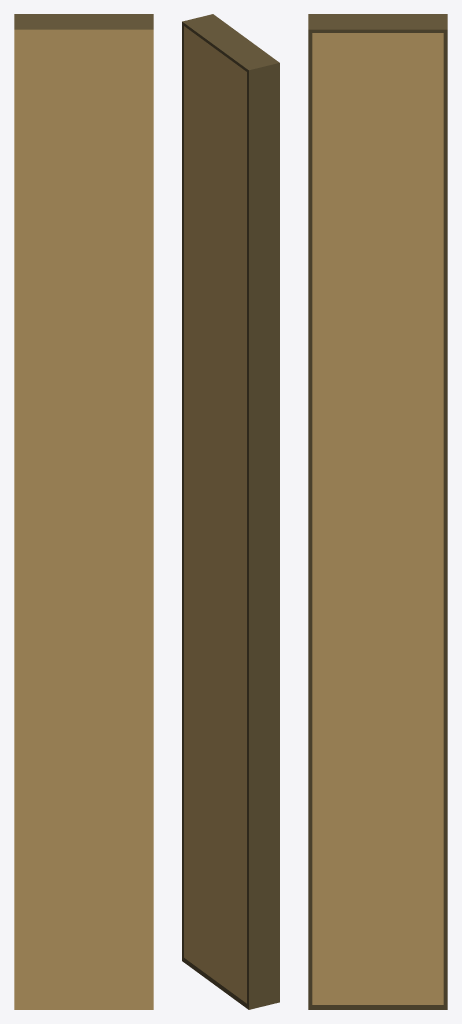
The model's file is WoodPlack.fbx.
3 views of the same model, side by side, from view 1: azimuth 90°, elevation 25°; view 2: azimuth 210°, elevation 25°; view 3: azimuth 270°, elevation 25° (orthographic). The views are drawn at different scales.
Visible parts, largest first — view 1: Куб; view 2: Куб; view 3: Куб.
Boxes of the visible parts, x1=… form: Куб: x1=14, y1=14, x2=153, y2=1009; Куб: x1=182, y1=14, x2=279, y2=1009; Куб: x1=308, y1=14, x2=447, y2=1009.
Size of the model in its own units: 6.9 by 200 by 25.73.
